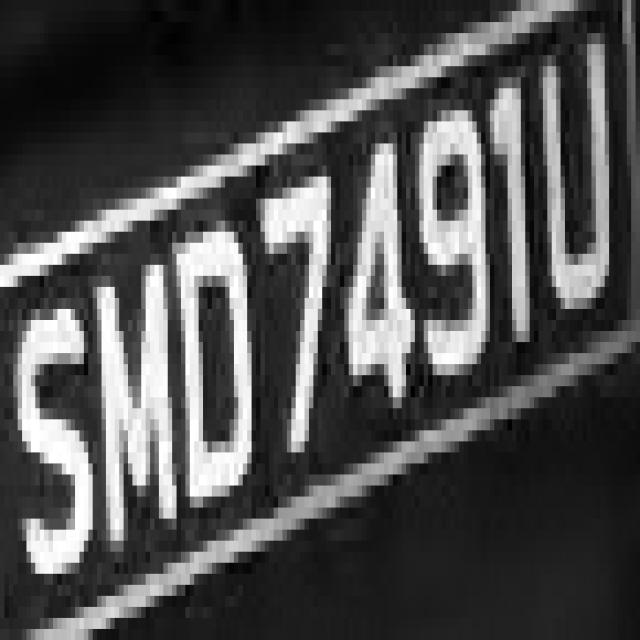1: (486, 33, 548, 386)
4: (331, 121, 419, 442)
7: (256, 143, 340, 474)
9: (419, 77, 490, 386)
D: (172, 177, 256, 508)
M: (80, 220, 176, 530)
S: (13, 276, 88, 607)
U: (538, 11, 622, 353)
